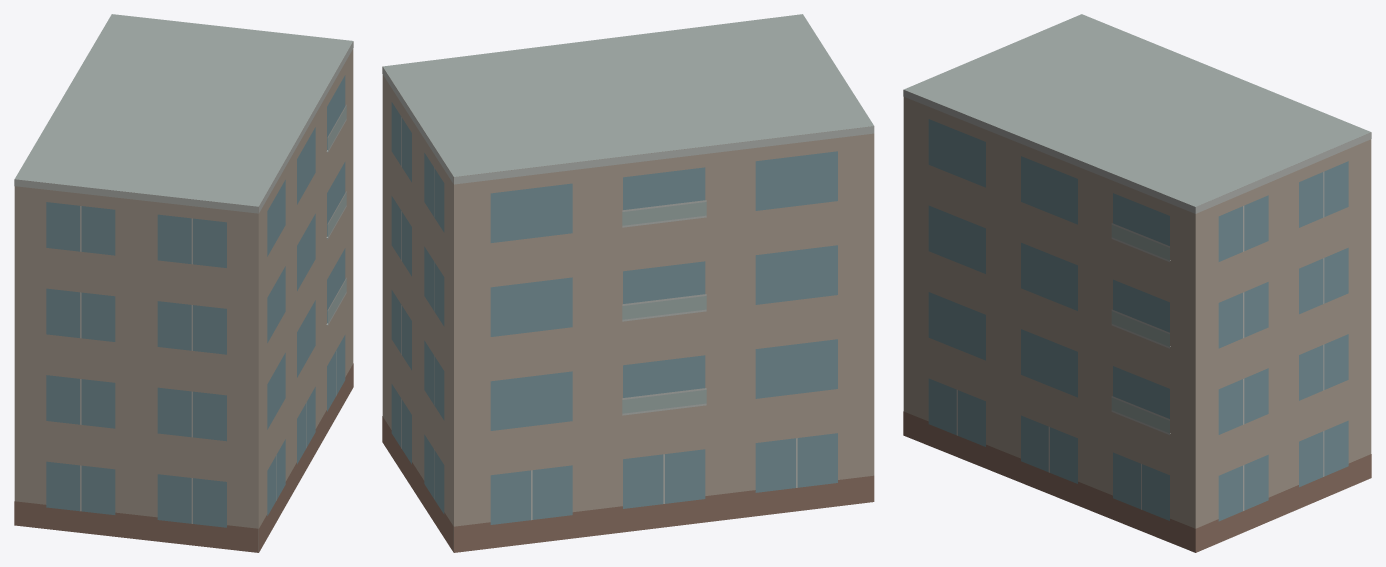
File: survey-upis-32648303.glb
The picture shows the model from 3 angles, left to right: view 1: azimuth 30°, elevation 25°; view 2: azimuth 150°, elevation 25°; view 3: azimuth 270°, elevation 25°; orthographic projection. The views are drawn at different scales.
Parts seen in each view (by area): view 1: survey-upis-32648303.tmp; view 2: survey-upis-32648303.tmp; view 3: survey-upis-32648303.tmp.
Boxes of the visible parts, x1,y1,x2,y2 form: survey-upis-32648303.tmp: (14, 14, 353, 552); survey-upis-32648303.tmp: (382, 14, 874, 552); survey-upis-32648303.tmp: (903, 14, 1371, 552).
Size of the model in its own units: 14.61 by 12.2 by 14.97.
